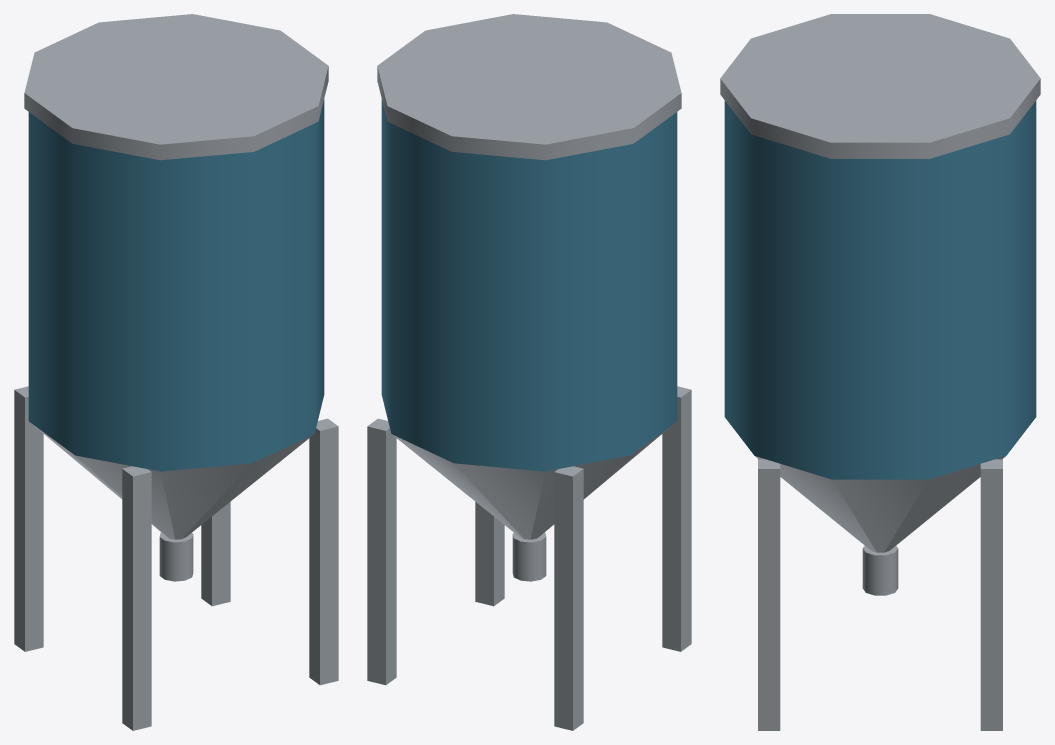
3 renders of one model, left to right at view 1: azimuth 30°, elevation 25°; view 2: azimuth 150°, elevation 25°; view 3: azimuth 270°, elevation 25°, orthographic. The views are drawn at different scales.
Visible parts, largest first — view 1: vessel, lid, leg1, leg3, leg0, hopper, leg2, outlet; view 2: vessel, lid, leg0, leg2, leg1, hopper, leg3, outlet; view 3: vessel, lid, hopper, leg2, leg3, outlet.
Boxes of the visible parts, bbox=[...] form: vessel: bbox=[28, 99, 324, 471]; lid: bbox=[24, 14, 328, 160]; leg1: bbox=[122, 466, 151, 730]; leg3: bbox=[309, 418, 338, 685]; leg0: bbox=[14, 386, 43, 651]; hopper: bbox=[30, 422, 313, 539]; leg2: bbox=[201, 502, 230, 606]; outlet: bbox=[159, 532, 193, 581]; vessel: bbox=[381, 99, 677, 471]; lid: bbox=[377, 14, 681, 160]; leg0: bbox=[554, 466, 583, 730]; leg2: bbox=[367, 418, 396, 685]; leg1: bbox=[662, 386, 691, 651]; hopper: bbox=[392, 422, 675, 539]; leg3: bbox=[475, 502, 504, 606]; outlet: bbox=[512, 532, 546, 581]; vessel: bbox=[724, 100, 1036, 479]; lid: bbox=[720, 14, 1040, 158]; hopper: bbox=[755, 456, 1005, 552]; leg2: bbox=[980, 459, 1002, 730]; leg3: bbox=[758, 459, 780, 730]; outlet: bbox=[862, 546, 898, 595].
Size of the model in its own units: 1.37 by 2.98 by 1.44.
